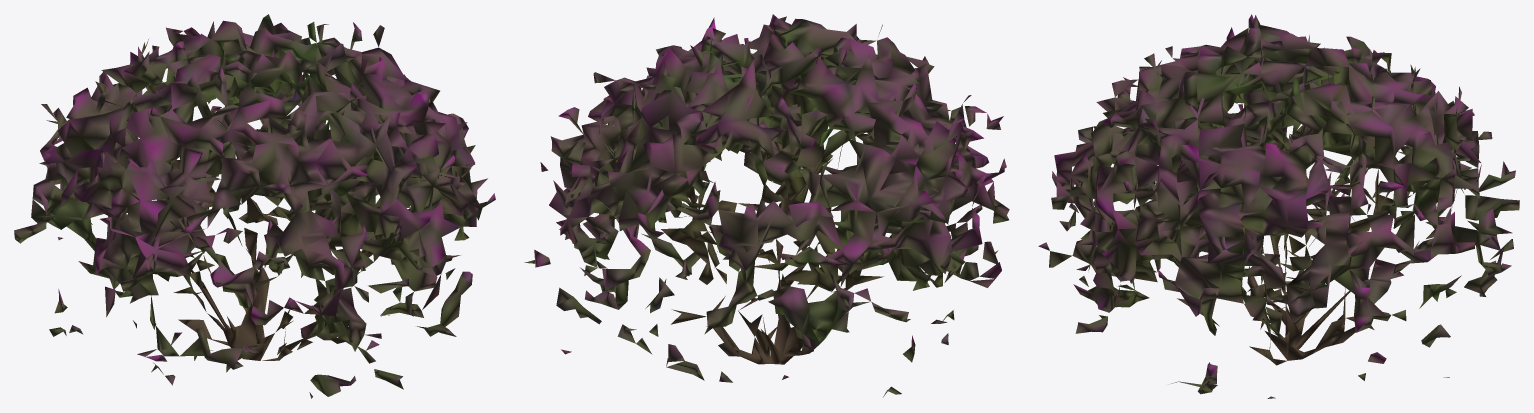
The model's file is azalea.1.glb.
3 views of the same model, side by side, from view 1: azimuth 30°, elevation 25°; view 2: azimuth 150°, elevation 25°; view 3: azimuth 270°, elevation 25° (orthographic). The views are drawn at different scales.
Visible parts, largest first — view 1: lod; view 2: lod; view 3: lod.
Part boxes in pixels (box(x1,y1,x2,y2)): lod: box(14, 14, 495, 398); lod: box(524, 14, 1009, 397); lod: box(1038, 14, 1519, 398).
Size of the model in its own units: 0.8902 by 0.6758 by 0.9502.
